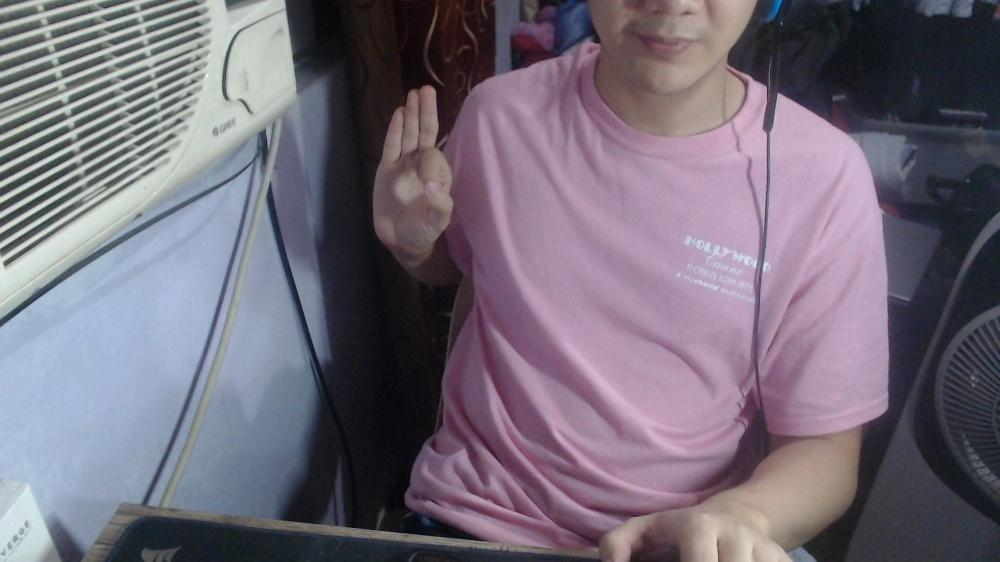f: (368, 82, 454, 258)
